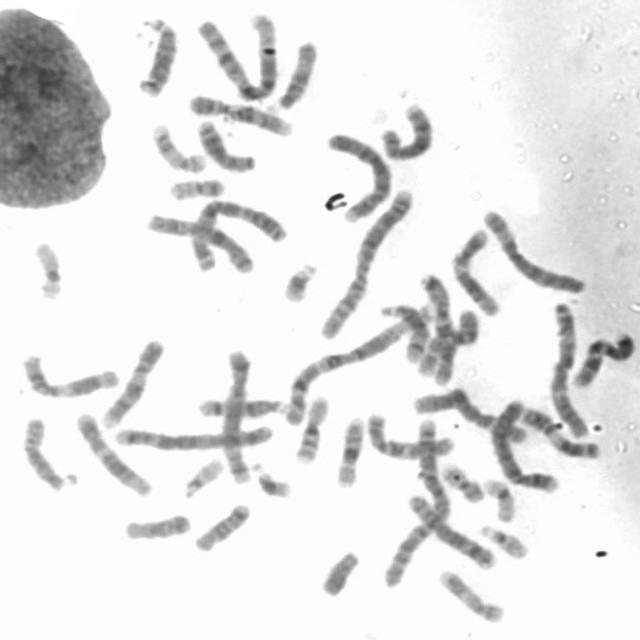A1: (280, 296, 437, 427), (192, 7, 282, 102)
A2: (315, 182, 417, 340), (377, 416, 455, 589)
A3: (186, 194, 290, 272), (544, 296, 593, 439)
B4: (485, 395, 561, 494), (320, 127, 395, 225)
B5: (108, 418, 279, 453), (217, 344, 255, 485)
C10: (361, 407, 459, 461), (412, 305, 481, 378)
C11: (16, 348, 121, 400), (518, 401, 604, 460)
C12: (70, 408, 154, 498), (446, 222, 503, 318)
C6: (477, 203, 589, 296), (411, 382, 532, 446)
C7: (413, 268, 459, 386), (566, 326, 637, 390)
C8: (402, 488, 501, 570), (375, 97, 437, 163)
C9: (96, 333, 167, 430), (182, 89, 296, 139)
D13: (133, 11, 181, 98), (192, 114, 259, 174)
D14: (374, 298, 430, 363), (192, 390, 292, 419)
D15: (264, 34, 319, 114), (18, 412, 70, 493)
E16: (290, 390, 332, 464), (330, 410, 368, 490)
E17: (434, 564, 507, 625), (148, 118, 210, 175)
E18: (190, 497, 252, 554), (120, 509, 194, 542)
F19: (28, 234, 66, 302), (479, 472, 519, 524)
F20: (437, 458, 487, 504), (164, 172, 228, 201)
G21: (277, 255, 322, 305), (247, 456, 296, 501)
G22: (474, 519, 532, 560), (178, 452, 226, 500)
X: (141, 208, 256, 276)
Y: (316, 544, 363, 599)
